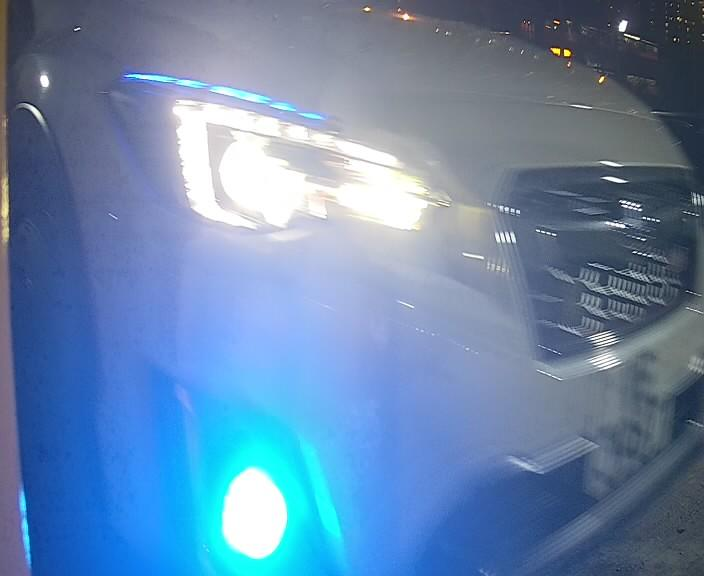License Plate: (573, 323, 690, 509)
